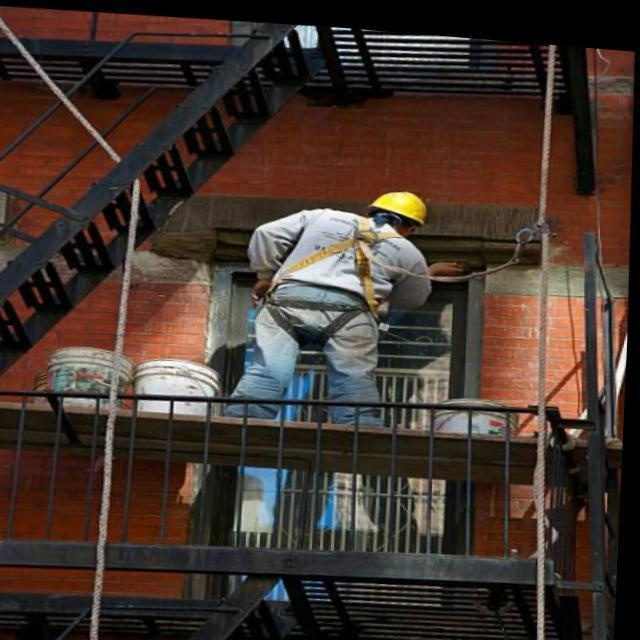Arnes_seguridad: (260, 200, 412, 337)
